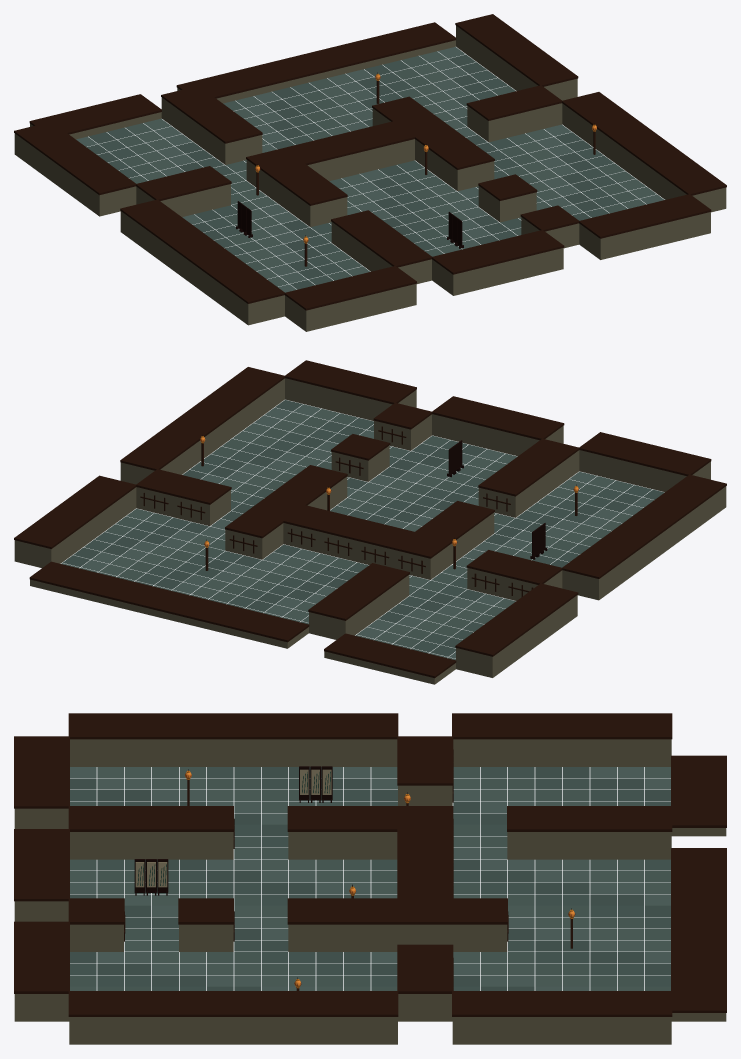
Rendered from chapter-0.glb.
3 views of the same model, one above another, from view 1: azimuth 30°, elevation 25°; view 2: azimuth 150°, elevation 25°; view 3: azimuth 270°, elevation 25° (orthographic). The views are drawn at different scales.
Visible parts, largest first — view 1: 院墙, 青砖地面, 庭院陈设; view 2: 院墙, 青砖地面, 庭院陈设; view 3: 院墙, 青砖地面, 庭院陈设.
Part boxes in pixels (x1,y1,x2,y2): 院墙: [14, 14, 726, 331]; 青砖地面: [76, 47, 664, 292]; 庭院陈设: [236, 72, 596, 266]; 院墙: [14, 360, 726, 684]; 青砖地面: [61, 400, 664, 660]; 庭院陈设: [200, 435, 578, 570]; 院墙: [14, 713, 726, 1044]; 青砖地面: [70, 767, 670, 990]; 庭院陈设: [134, 766, 575, 990].
Bounding box in the file's own units: 26.04 × 1.62 × 26.04.
